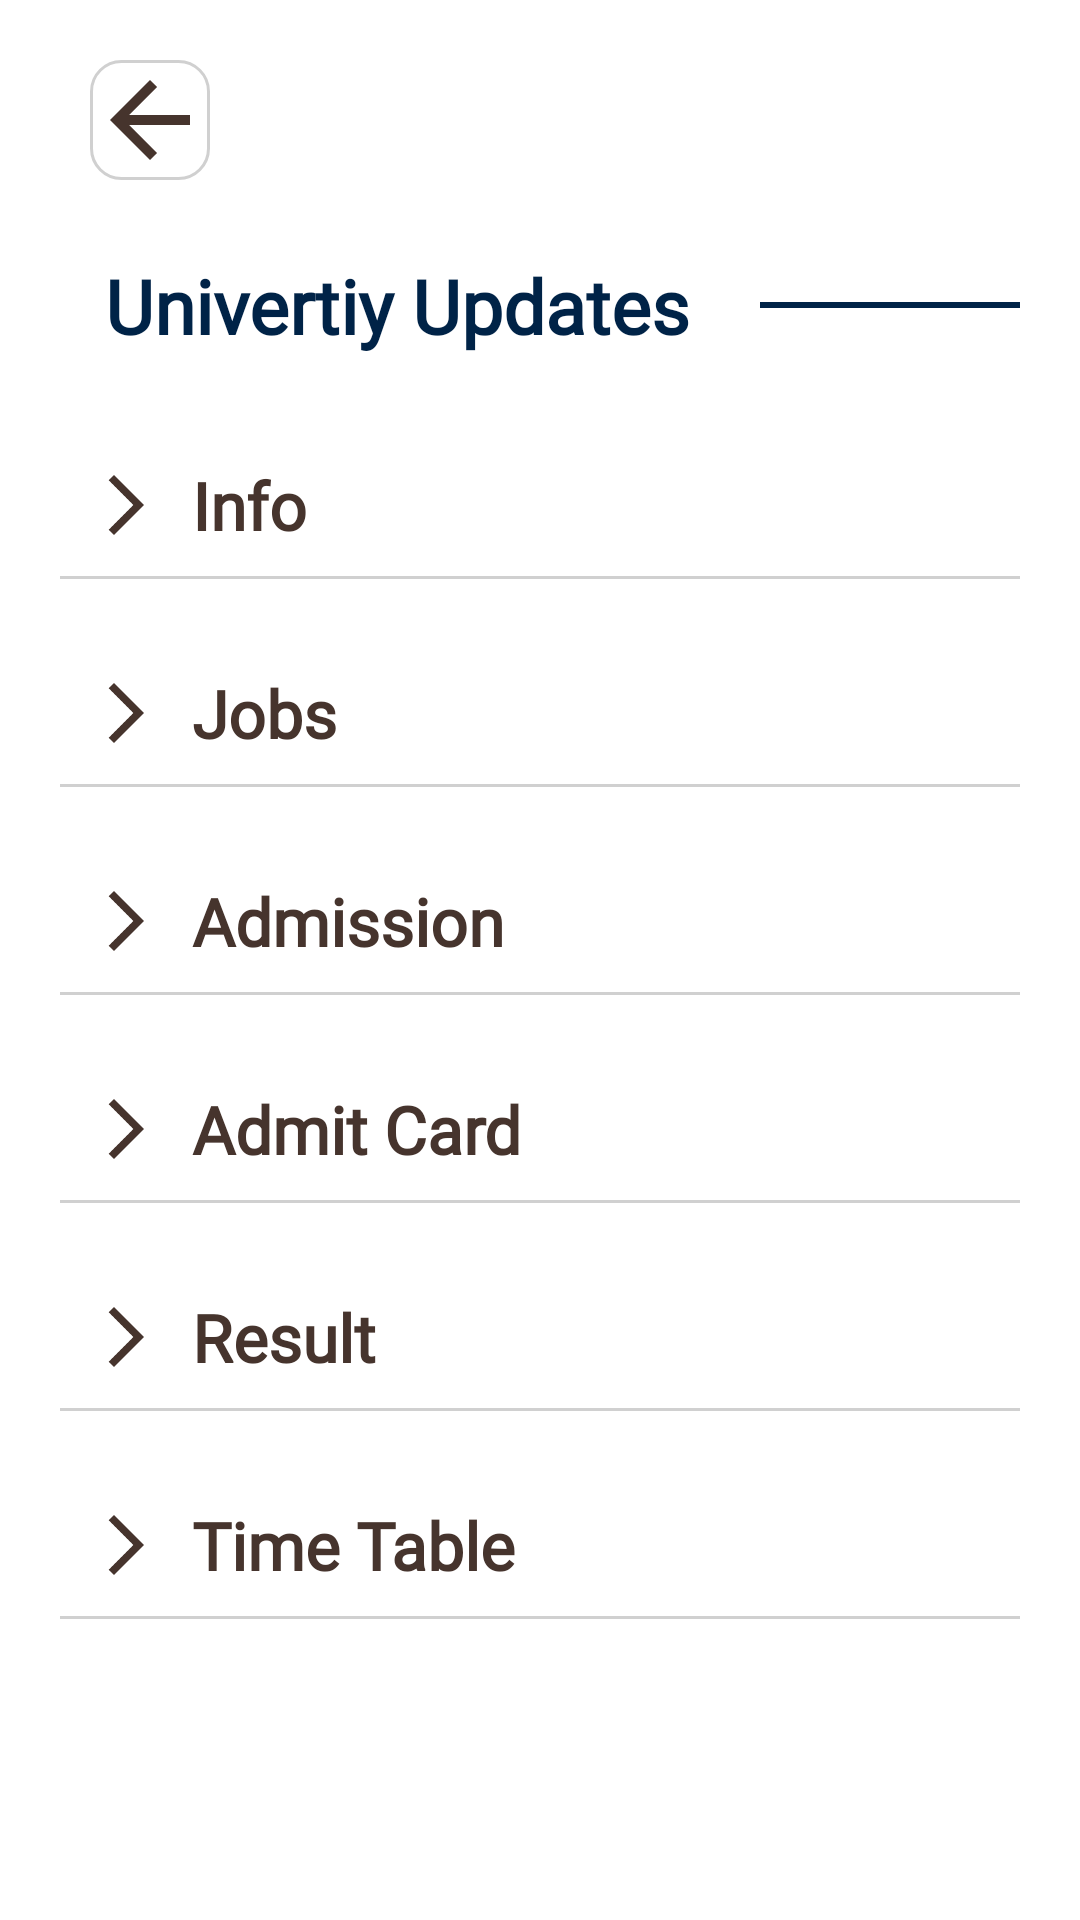

Named icons in this screenshot (1080 × 1920) and their centers, (x=x, y=y):
back: (x=150, y=120)
